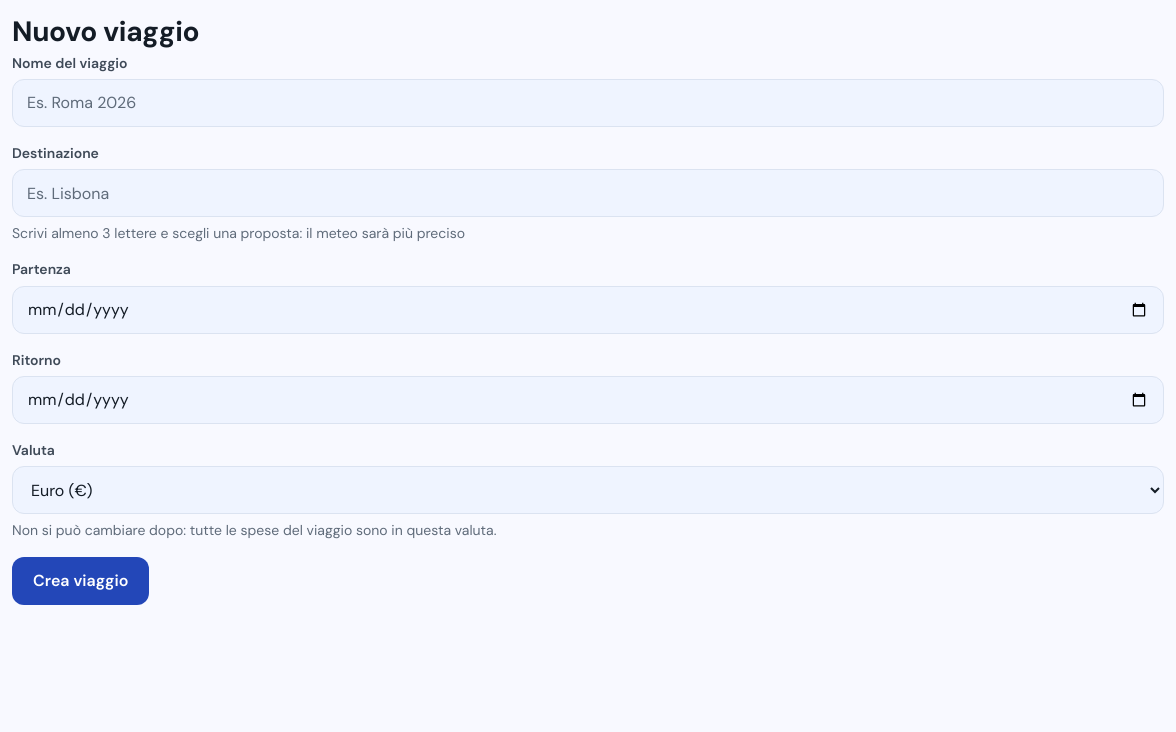
senza scegliere una proposta il viaggio non parte: «Scegli la destinazione dall'elenco»
In the field labelled "Nome del viaggio": {"x": 588, "y": 103} [12,79,1164,127], type "Ovunque"
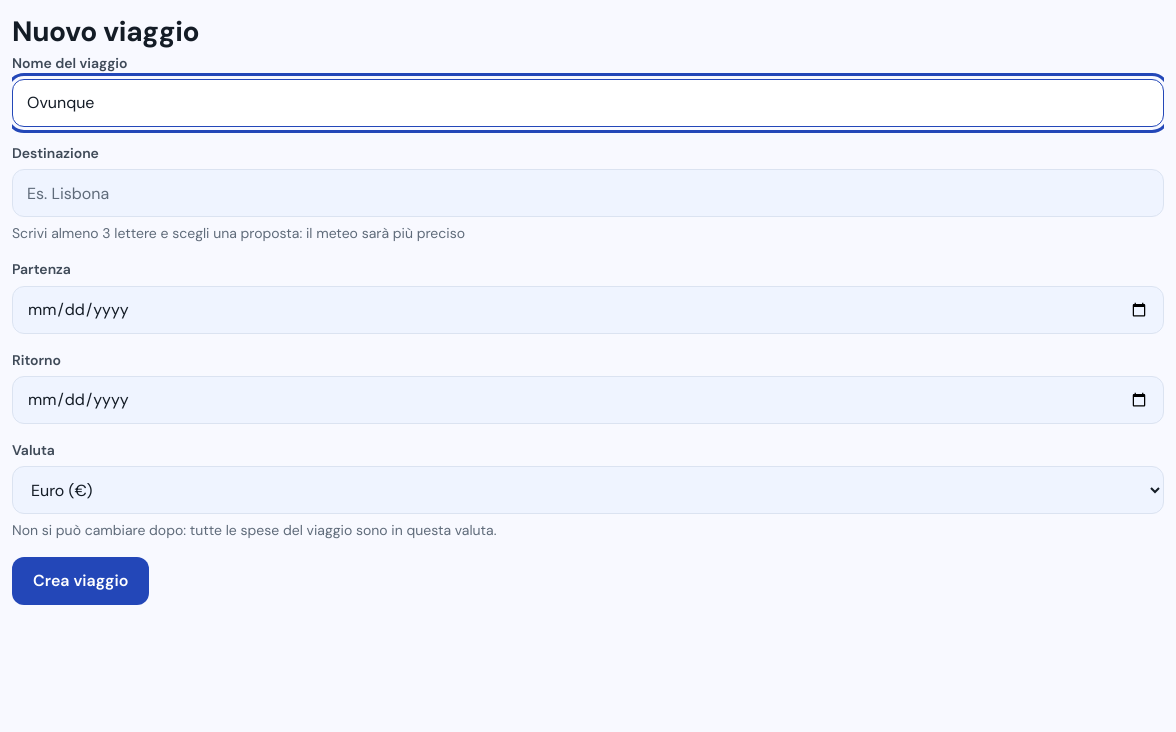
In the dropdown labelled "Destinazione": {"x": 588, "y": 193} [12,169,1164,217], type "Un posto inventato"
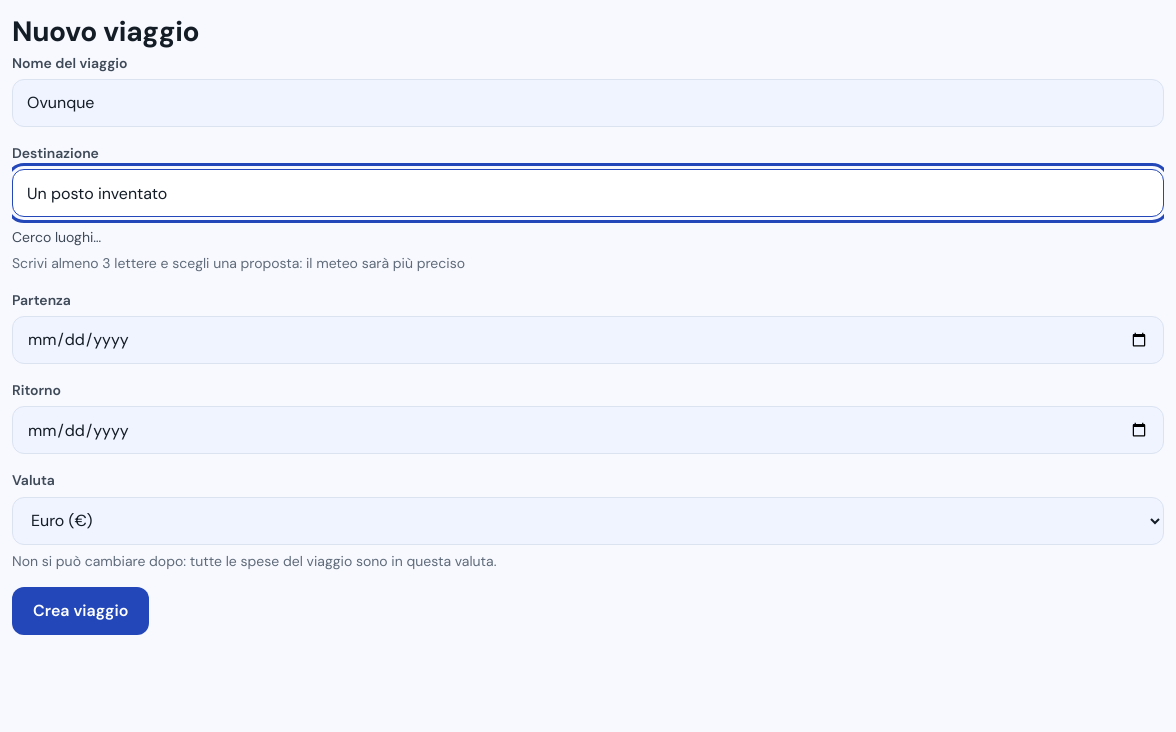
In the date field labelled "Partenza": {"x": 588, "y": 340} [12,316,1164,364], type "2026-12-01"
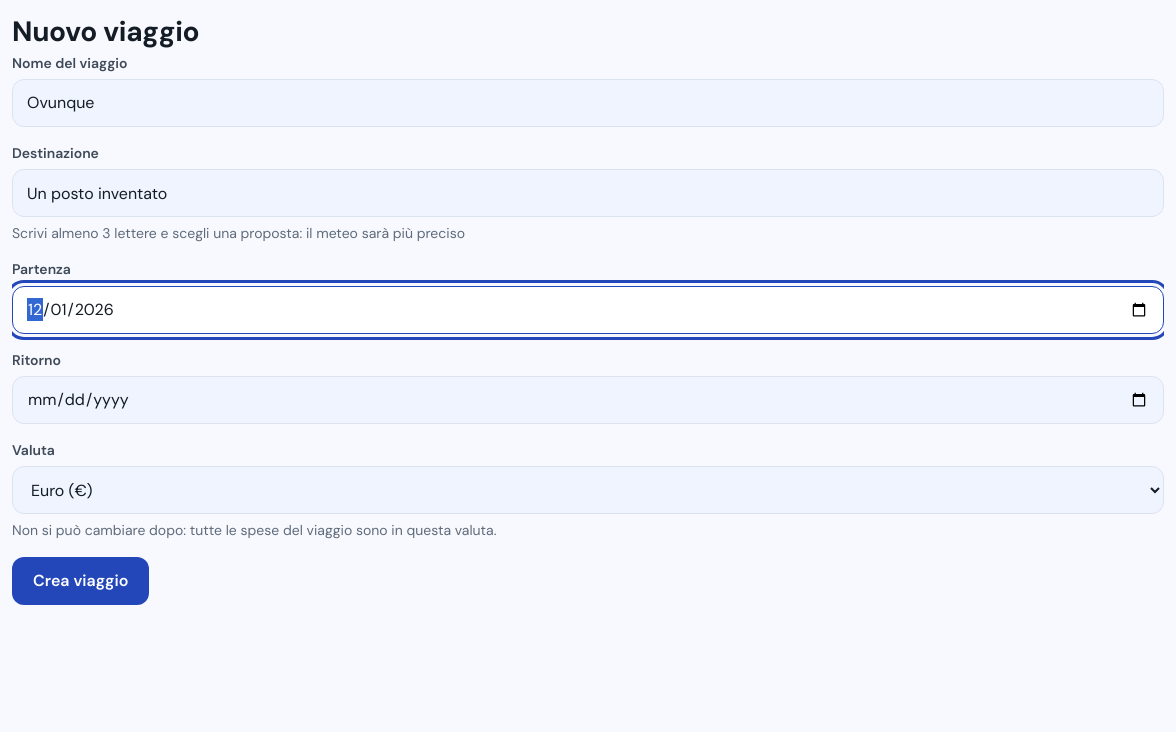
In the date field labelled "Ritorno": {"x": 588, "y": 400} [12,376,1164,424], type "2026-12-08"
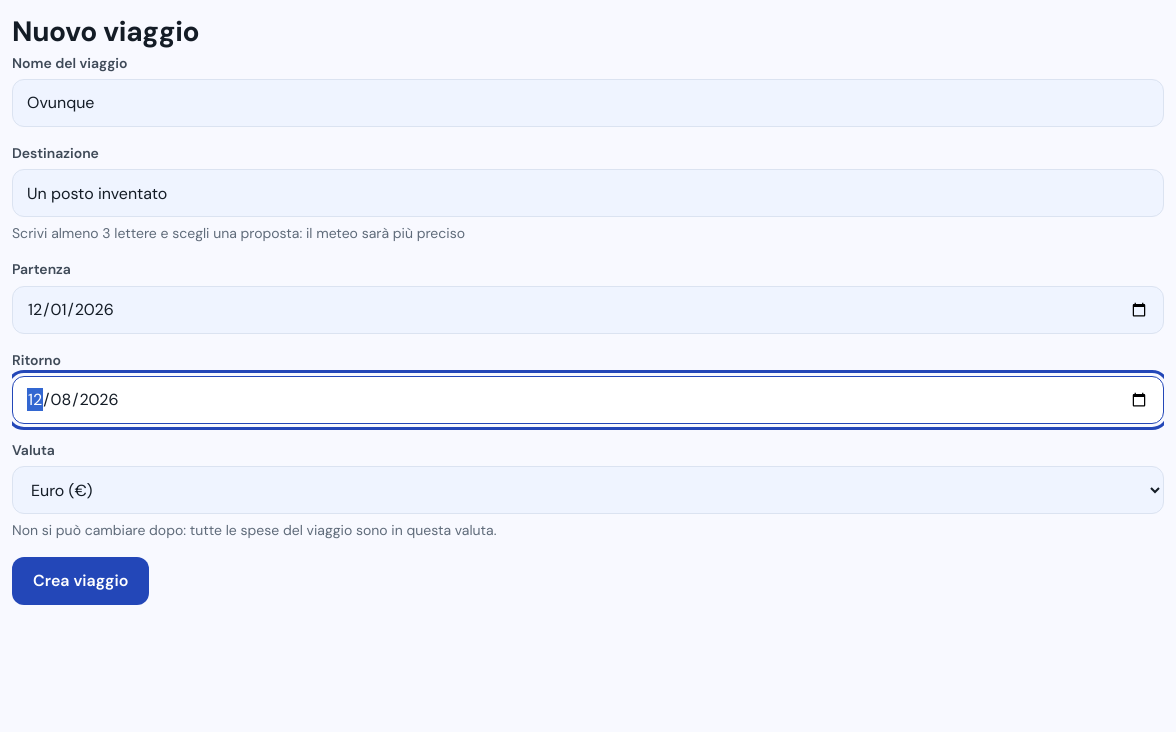
Click the button "Crea viaggio": {"x": 81, "y": 581} [12,557,149,605]
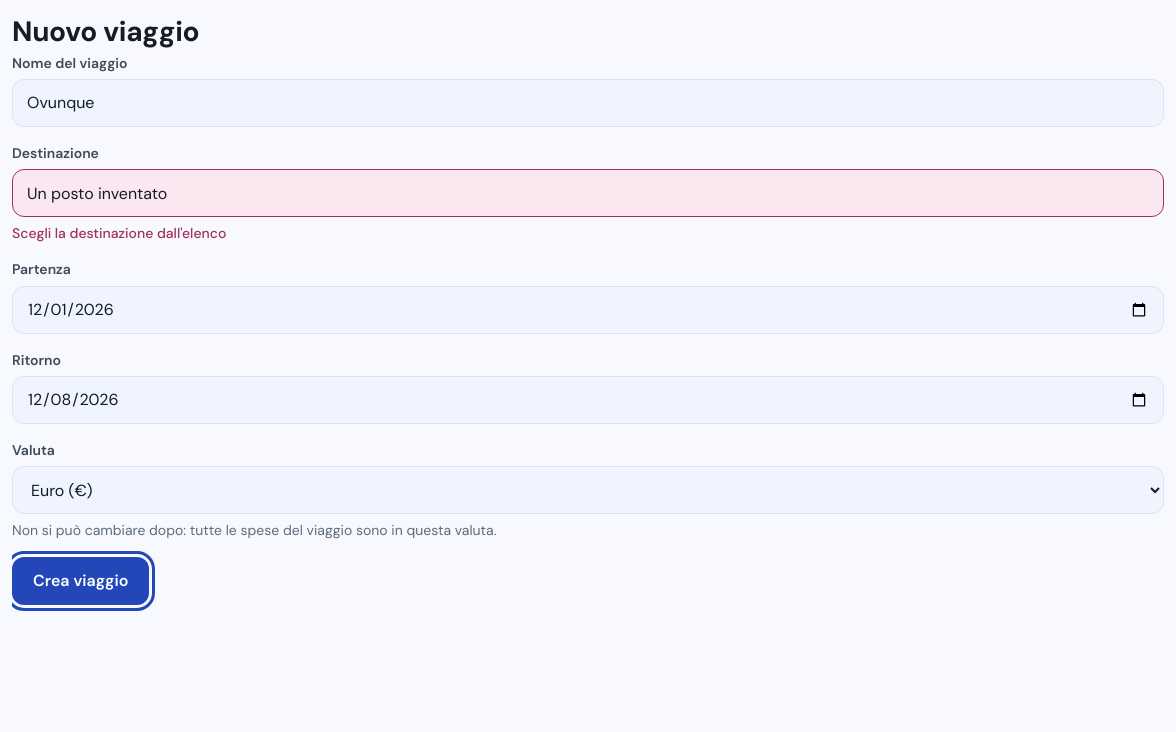
Expected: the text "Scegli la destinazione dall'elenco" is shown, [12,224,226,242]
